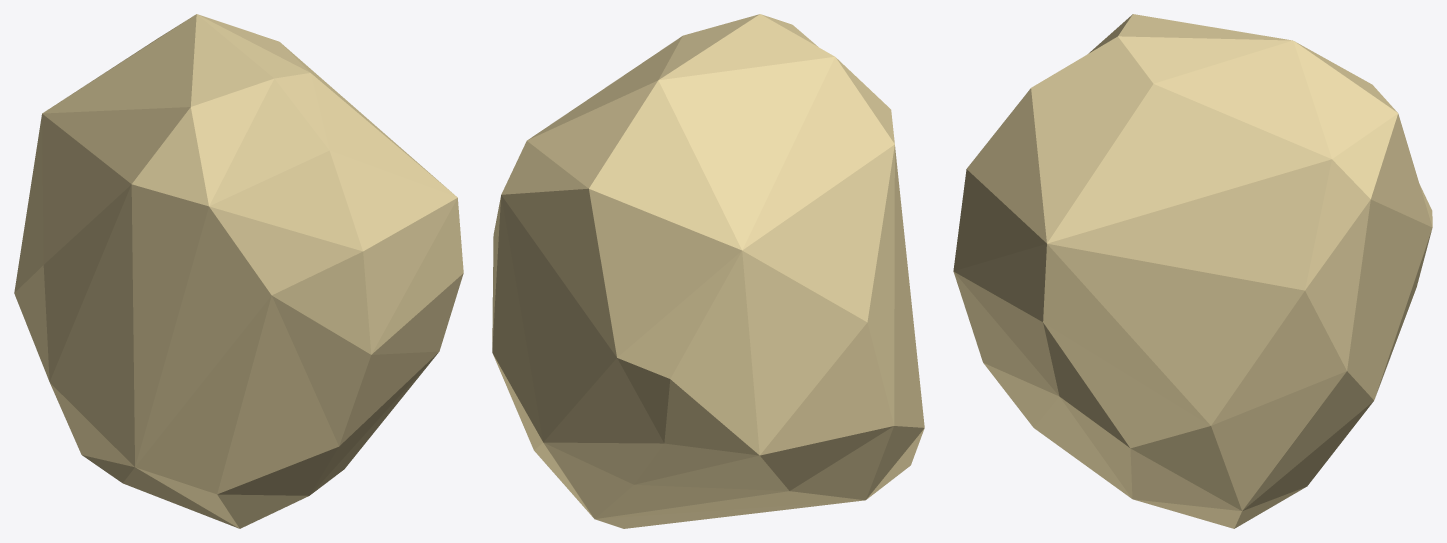
The model's file is Rock (49).fbx.
3 renders of one model, left to right at view 1: azimuth 30°, elevation 25°; view 2: azimuth 150°, elevation 25°; view 3: azimuth 270°, elevation 25°, orthographic. The views are drawn at different scales.
Visible parts, largest first — view 1: Asteroid48; view 2: Asteroid48; view 3: Asteroid48.
Part boxes in pixels (box(x1,y1,x2,y2)): Asteroid48: box(14, 14, 463, 528); Asteroid48: box(492, 14, 924, 528); Asteroid48: box(953, 14, 1432, 528).
Bounding box in the file's own units: 76.82 × 94.97 × 89.98.
